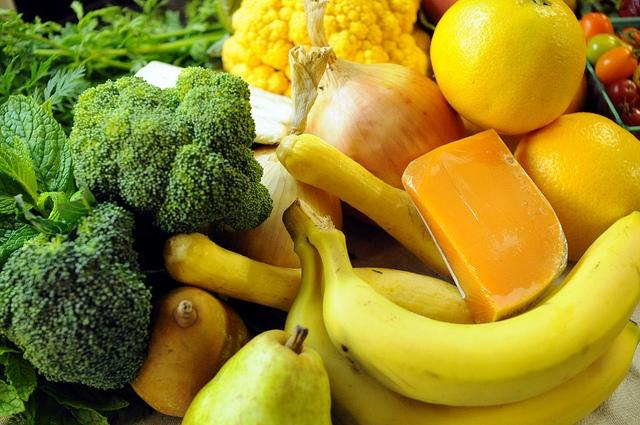banana: (284, 199, 638, 423), (308, 210, 640, 406)
broccoli: (68, 66, 274, 236), (0, 200, 154, 390)
cauliflower: (222, 0, 428, 98)
lemon: (429, 0, 586, 135), (513, 112, 640, 262)
onion: (304, 0, 468, 191), (211, 145, 343, 269)
pear: (132, 286, 250, 418), (182, 325, 334, 425)
tomato: (595, 47, 640, 84), (586, 33, 633, 66), (580, 12, 614, 48), (606, 78, 638, 104), (620, 97, 640, 128), (615, 24, 639, 48), (630, 63, 640, 93)
